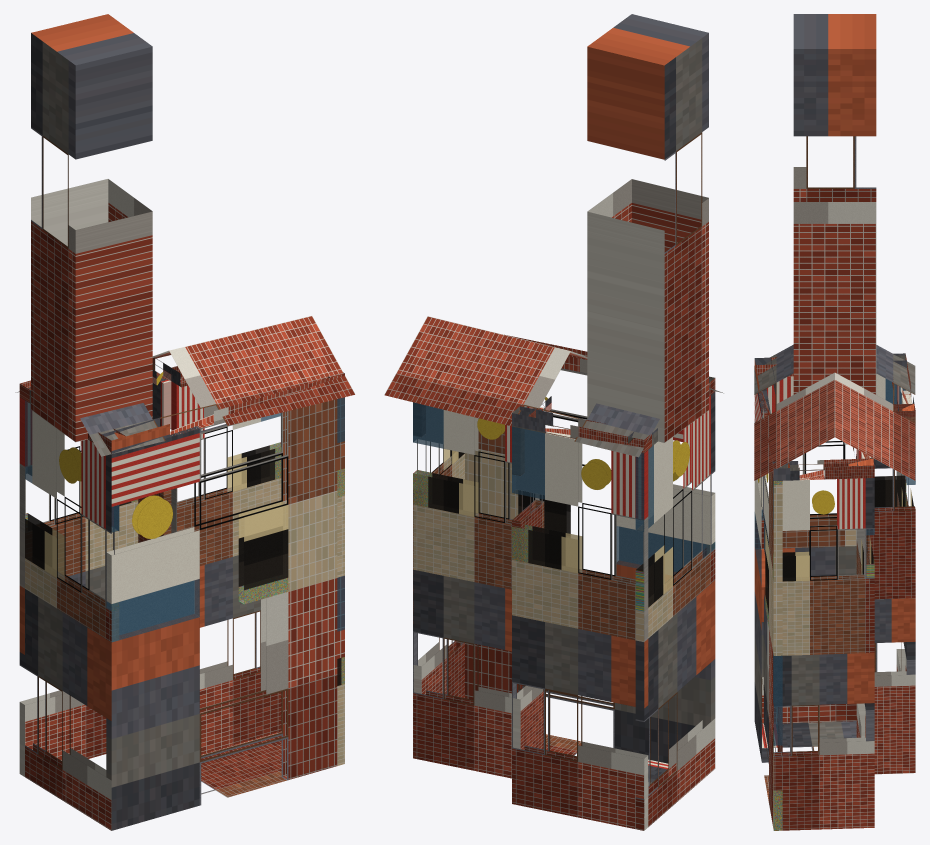
3 renders of one model, left to right at view 1: azimuth 30°, elevation 25°; view 2: azimuth 150°, elevation 25°; view 3: azimuth 270°, elevation 25°, orthographic. The views are drawn at different scales.
Parts seen in each view (by area): view 1: 534916384__wall_0_xb, 534916384__chimney_0_xb, 534916384__wall_5_xb, 534916384__wall_2_xb, 534916384_roof_-1_xb, 534916384__wall_4_xb, 534916384__wall_0_xf, 534916384__base, 534916384__wall_1_xb, 534916384__wall_5_xf, 534916384__cornice_0, 534916384__wall_2_xf (+2 smaller); view 2: 534916384__chimney_0_xb, 534916384__wall_4_xb, 534916384__wall_2_xb, 534916384__wall_5_xb, 534916384__wall_0_xb, 534916384_roof_1_xb, 534916384__wall_4_xf, 534916384__wall_1_xb, 534916384__wall_2_xf, 534916384__wall_3_xb, 534916384__wall_0_xf, 534916384__wall_5_xf (+2 smaller); view 3: 534916384__chimney_0_xb, 534916384__wall_1_xb, 534916384__wall_3_xb, 534916384__wall_0_xb, 534916384__wall_5_xb, 534916384_roof_1_xb, 534916384_roof_-1_xb, 534916384__base, 534916384__wall_0_xf, 534916384__cornice_1, 534916384__wall_2_xb, 534916384__wall_5_xf (+3 smaller).
Boxes of the visible parts, x1,y1,x2,y2 form: 534916384__wall_0_xb: [106, 397, 344, 830]; 534916384__chimney_0_xb: [31, 14, 152, 442]; 534916384__wall_5_xb: [19, 400, 119, 830]; 534916384__wall_2_xb: [171, 378, 281, 754]; 534916384_roof_-1_xb: [80, 316, 355, 456]; 534916384__wall_4_xb: [19, 397, 138, 776]; 534916384__wall_0_xf: [107, 502, 287, 641]; 534916384__base: [201, 731, 286, 797]; 534916384__wall_1_xb: [281, 397, 344, 765]; 534916384__wall_5_xf: [25, 401, 118, 577]; 534916384__cornice_0: [102, 373, 344, 453]; 534916384__wall_2_xf: [228, 413, 280, 490]; 534916384__chimney_0_xb: [587, 14, 708, 442]; 534916384__wall_4_xb: [512, 426, 648, 830]; 534916384__wall_2_xb: [413, 402, 539, 778]; 534916384__wall_5_xb: [635, 391, 715, 830]; 534916384__wall_0_xb: [456, 368, 715, 763]; 534916384_roof_1_xb: [384, 316, 659, 457]; 534916384__wall_4_xf: [512, 427, 581, 572]; 534916384__wall_1_xb: [413, 402, 464, 742]; 534916384__wall_2_xf: [413, 402, 477, 516]; 534916384__wall_3_xb: [512, 407, 544, 749]; 534916384__wall_0_xf: [518, 495, 714, 573]; 534916384__wall_5_xf: [636, 445, 672, 610]; 534916384__chimney_0_xb: [793, 14, 876, 394]; 534916384__wall_1_xb: [773, 477, 874, 830]; 534916384__wall_3_xb: [866, 423, 915, 774]; 534916384__wall_0_xb: [754, 388, 782, 830]; 534916384__wall_5_xb: [754, 374, 906, 723]; 534916384_roof_1_xb: [835, 345, 915, 480]; 534916384_roof_-1_xb: [754, 344, 834, 480]; 534916384__base: [762, 721, 856, 802]; 534916384__wall_0_xf: [755, 481, 782, 830]; 534916384__cornice_1: [772, 458, 874, 480]; 534916384__wall_2_xb: [856, 449, 874, 741]; 534916384__wall_5_xf: [875, 379, 905, 506].
Size of the model in its own units: 0.503 by 1.4 by 0.2925.
Materials: 1 (1 with a texture image).
